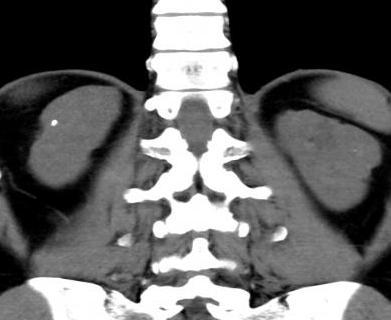Tas_Var: (49, 118, 59, 128)
